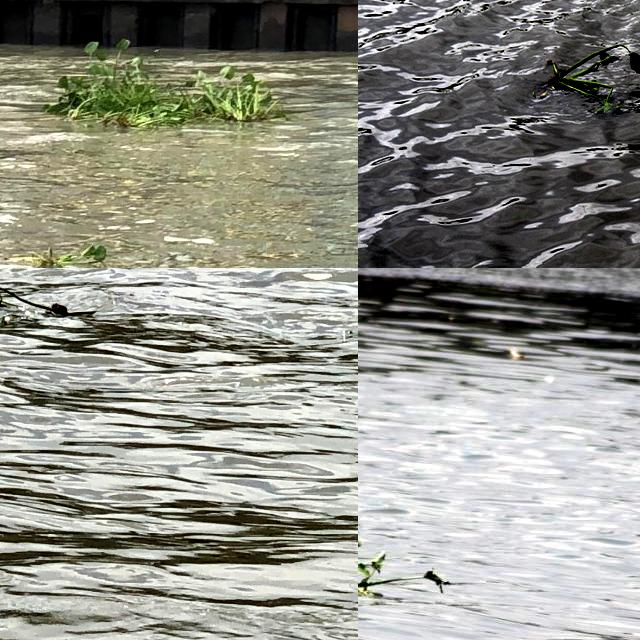water-hyacinth: (51, 37, 275, 129), (359, 515, 472, 597), (540, 45, 640, 113), (1, 269, 100, 326), (12, 232, 110, 269)
